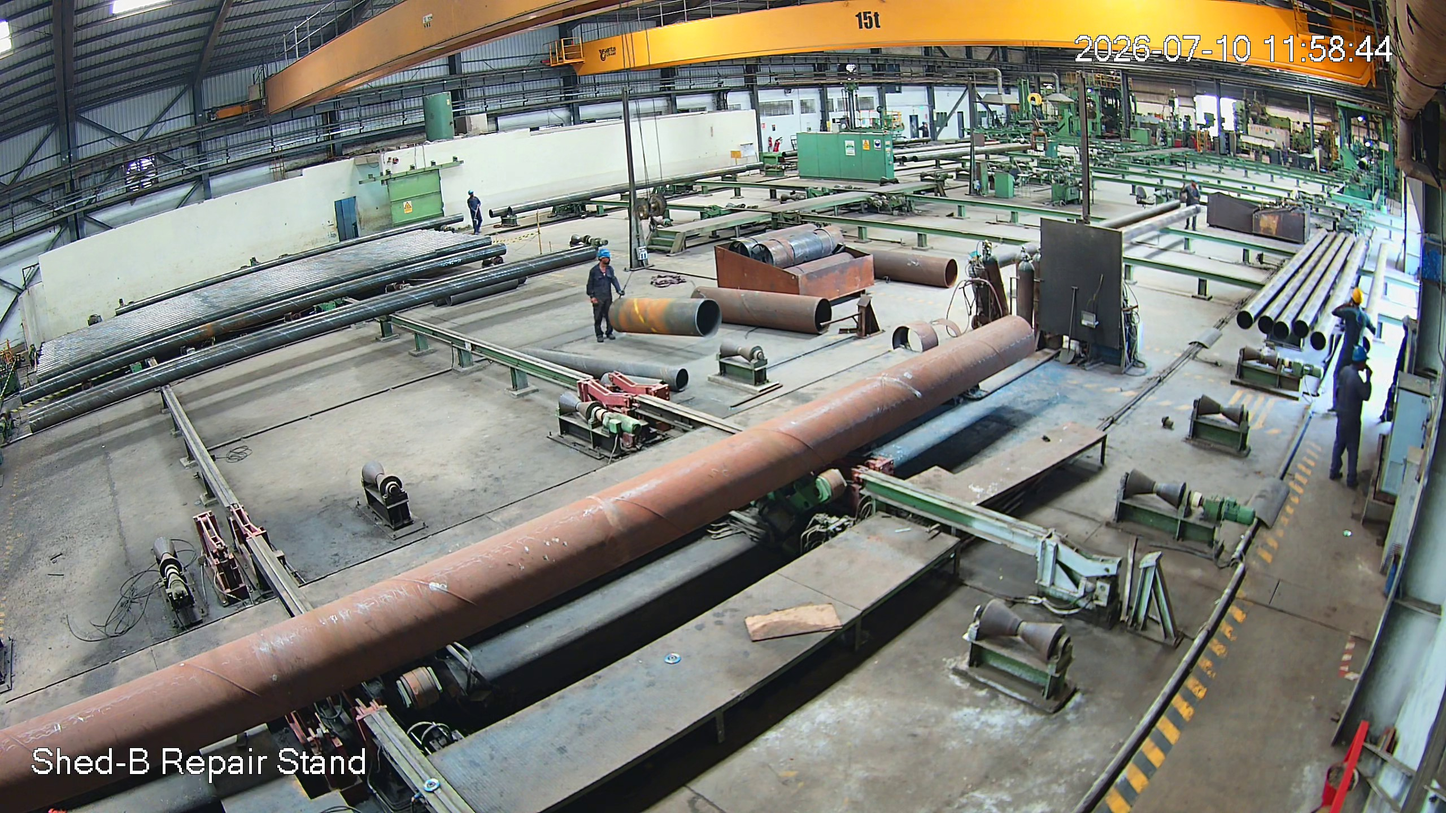Helmet: (1349, 342, 1376, 384), (594, 242, 618, 269), (1348, 285, 1369, 315), (466, 189, 480, 202)
Person: (1329, 344, 1374, 493), (1328, 287, 1372, 410), (587, 245, 619, 340), (463, 190, 487, 237)
